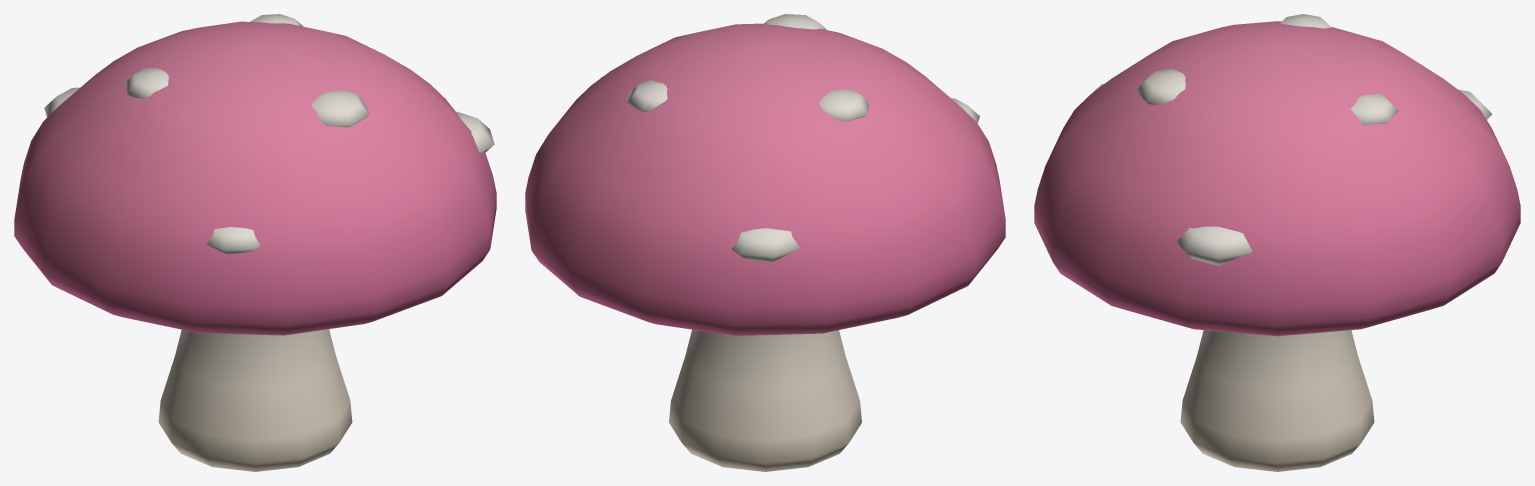
Rendered from mushroom.glb.
The picture shows the model from 3 angles, left to right: view 1: azimuth 30°, elevation 25°; view 2: azimuth 150°, elevation 25°; view 3: azimuth 270°, elevation 25°; orthographic projection.
Parts seen in each view (by area): view 1: Body; view 2: Body; view 3: Body.
Part boxes in pixels (x1,y1,x2,y2): Body: (14,14,496,471); Body: (525,14,1005,471); Body: (1034,14,1520,471).
Bounding box in the file's own units: 4.3 × 3.85 × 4.3.
